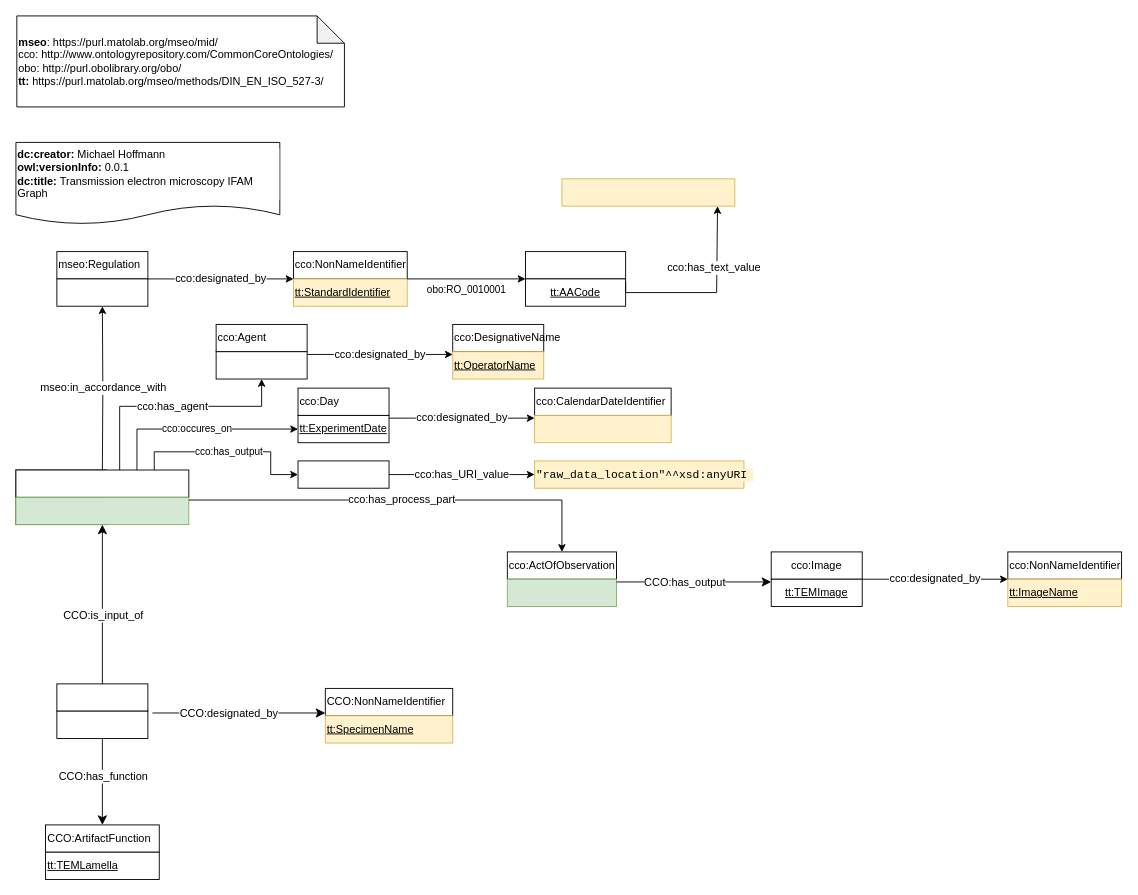
Image size: 1138x895. Some labels were removed from this diagram. Each missing label, with the centre of its shape:
"KT AA 029"^^xsd:string: [648,192]
cco:InformationLine: [575,265]
mseo:Experiment: [102,483]
mseo:File: [343,474]
mseo:Specimen: [102,697]
tt:ExperimentDateIdentifier: [602,429]
tt:Operator: [261,365]
tt:Procedure: [102,292]
tt:Specimen: [102,724]
tt:TEMImaging: [561,592]
tt:TransmissionElectronMicroscopy: [102,510]
